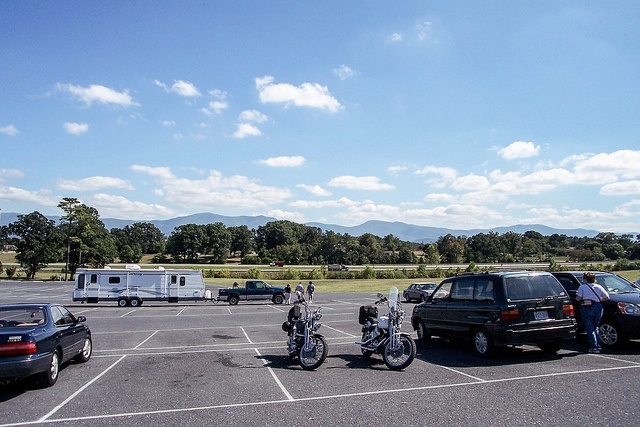non-vehicle: (352, 283, 418, 372), (281, 291, 328, 370)
